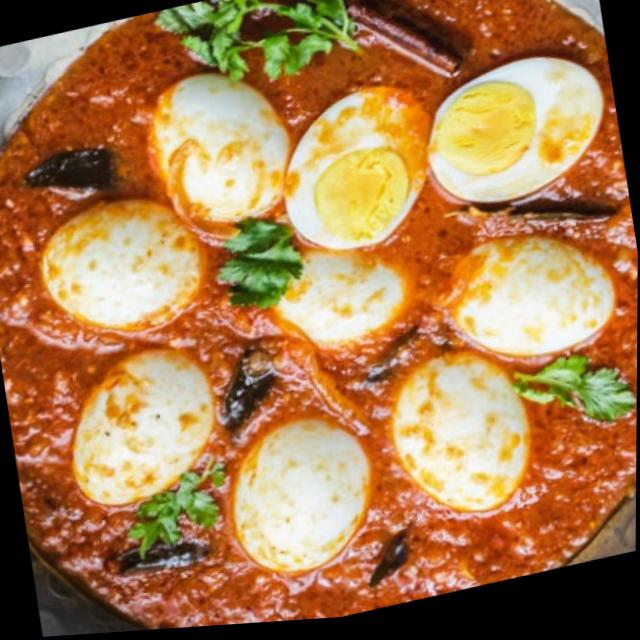EGG: (41, 56, 616, 578)
